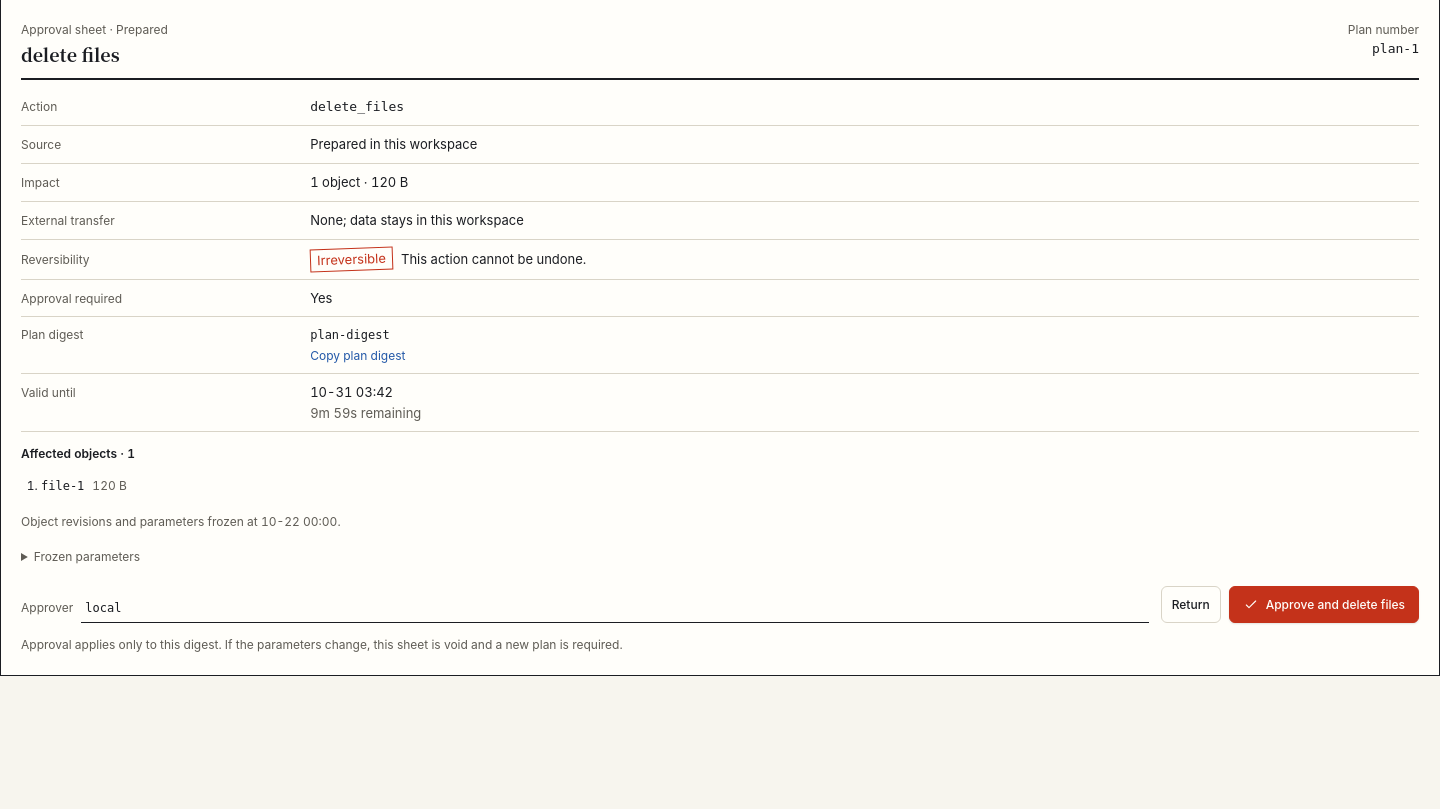
Scenario: retries a failed execute request without approving the plan twice
This screenshot has width=1440, height=809.
Click the button "Approve and delete files".
click(1324, 605)  # box [1229,586,1419,623]
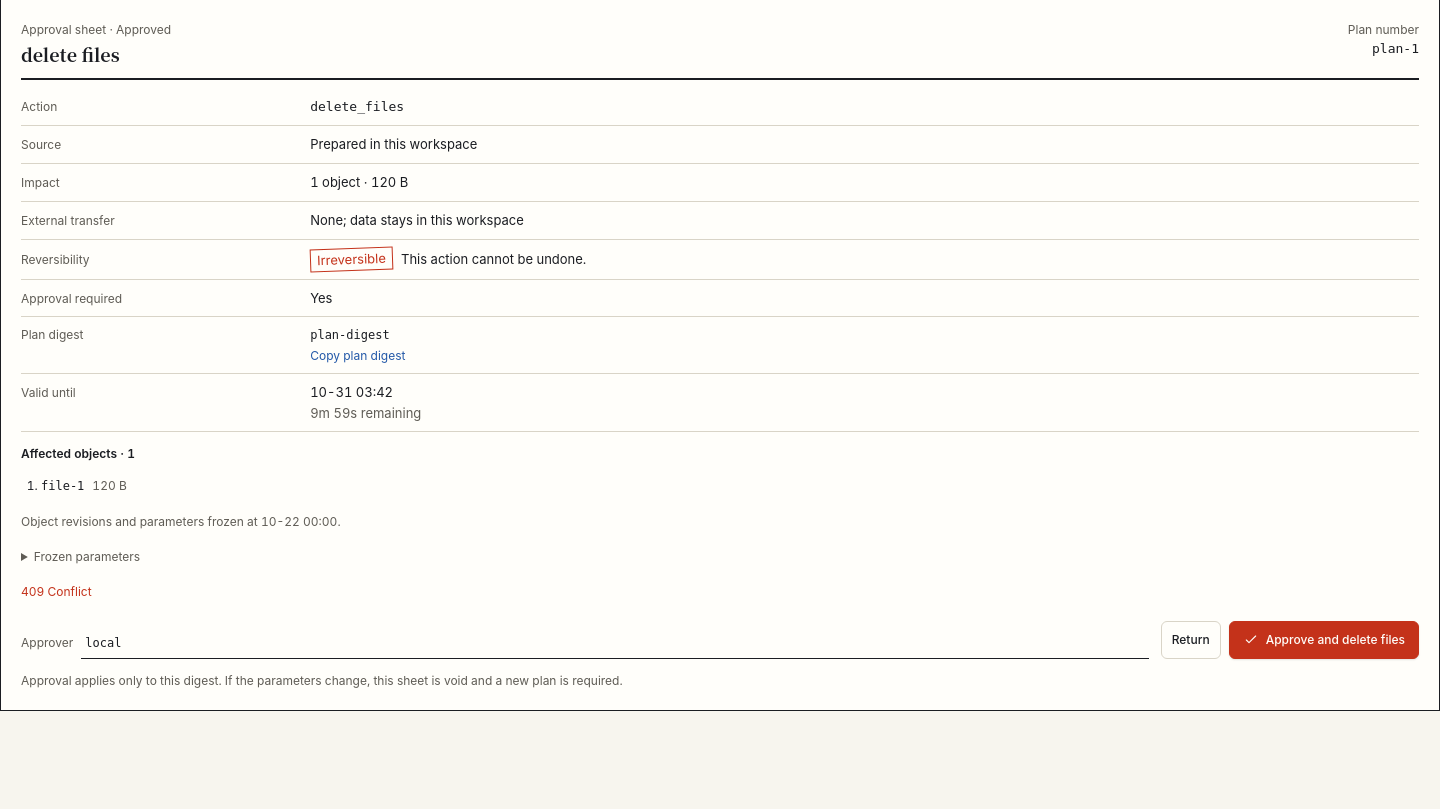
Now the message reads "409 Conflict", box [21,584,92,599]
Click the button "Approve and delete files".
click(1324, 640)  # box [1229,621,1419,659]
(page scrolled)
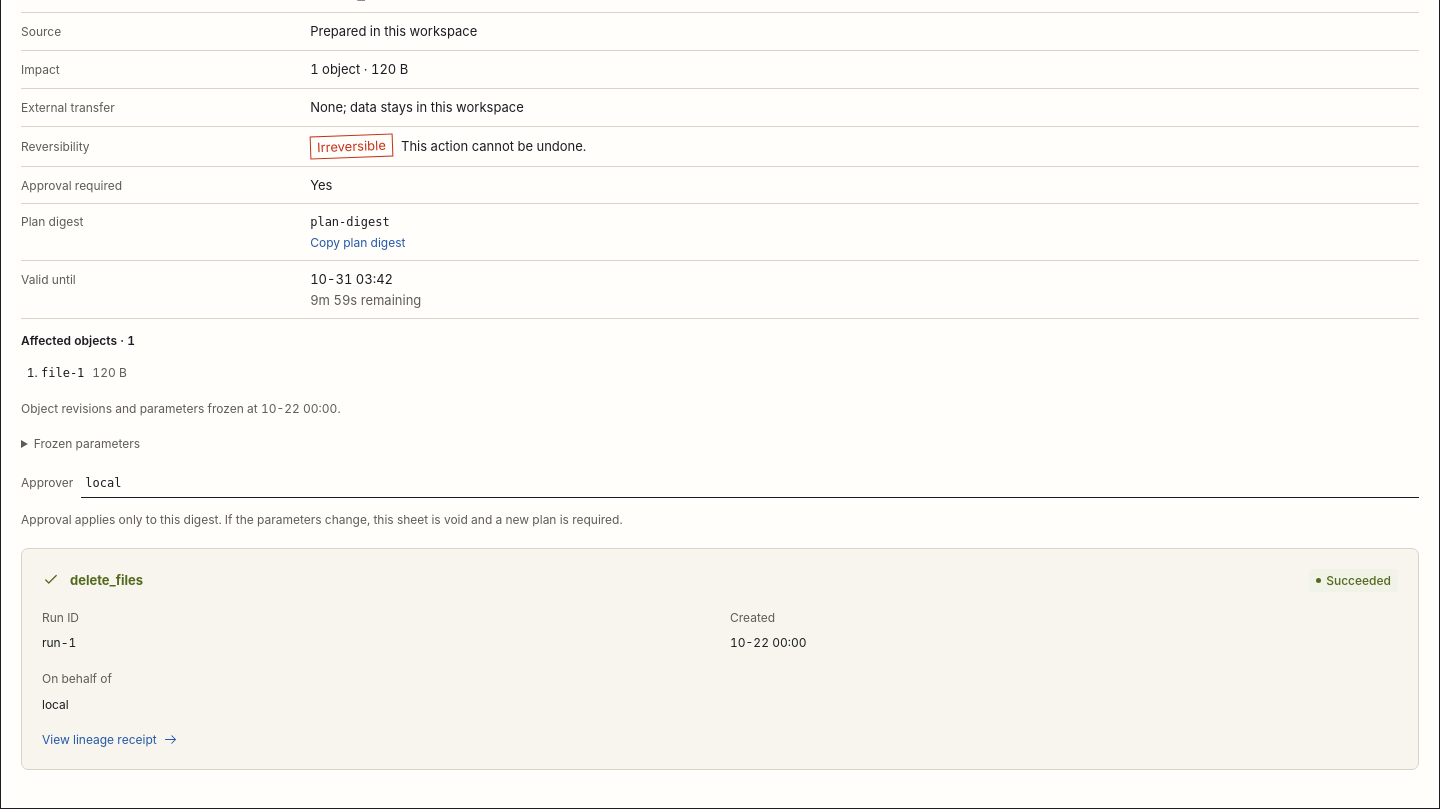
Now the element named "Receipt" is shown, box [21,548,1419,770]
